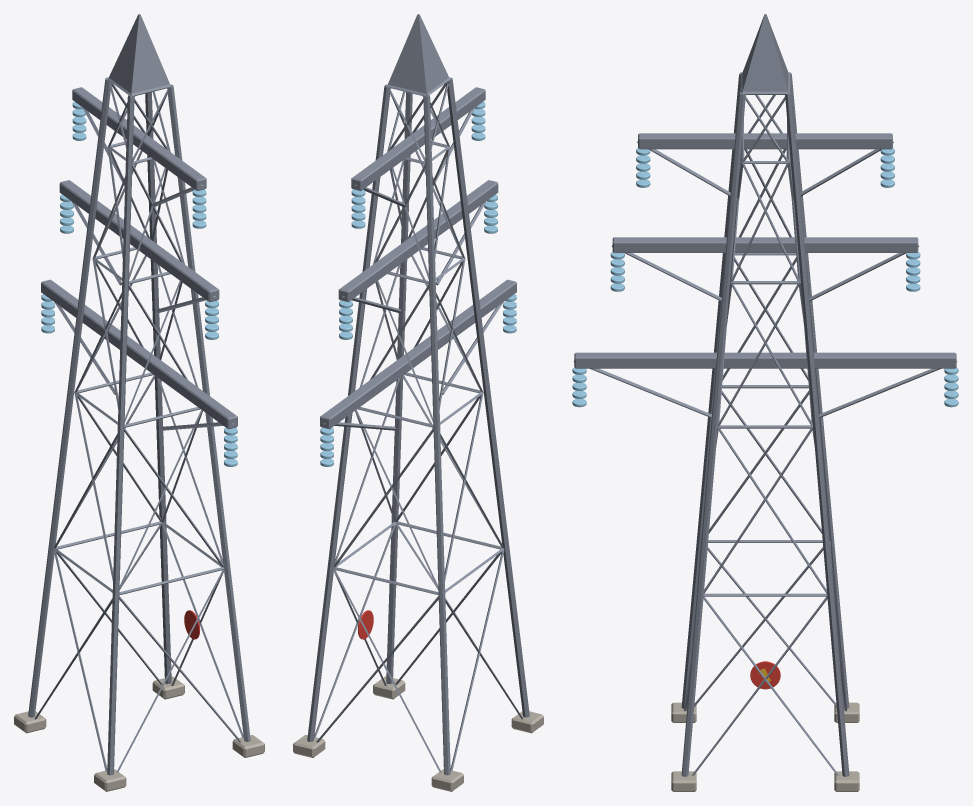
File: pylon.glb
3 views of the same model, side by side, from view 1: azimuth 30°, elevation 25°; view 2: azimuth 150°, elevation 25°; view 3: azimuth 270°, elevation 25° (orthographic).
Visible parts, largest first — view 1: pylon; view 2: pylon; view 3: pylon.
Boxes of the visible parts, x1,y1,x2,y2 form: pylon: [14, 14, 264, 791]; pylon: [293, 14, 543, 791]; pylon: [572, 14, 958, 791].
Bounding box in the file's own units: 7.4 × 32 × 15.16.
1 material, 1 textured.
